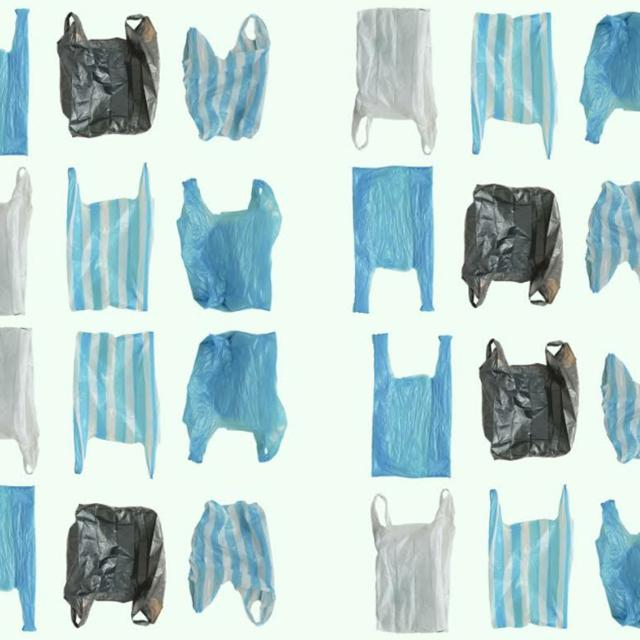Single-layer Plastic: (182, 331, 286, 462), (178, 179, 281, 311), (58, 12, 160, 138), (351, 9, 438, 154), (64, 504, 165, 628), (68, 164, 152, 311), (74, 332, 158, 478), (471, 12, 555, 158), (462, 184, 562, 306), (480, 339, 579, 460), (352, 166, 434, 312), (371, 490, 455, 632), (489, 486, 572, 628), (372, 334, 451, 478), (182, 15, 270, 140), (189, 501, 275, 625), (580, 12, 640, 144), (586, 181, 640, 292), (0, 328, 39, 474), (596, 500, 640, 628), (0, 485, 36, 631), (0, 168, 32, 314), (601, 354, 640, 462), (0, 9, 29, 154)
